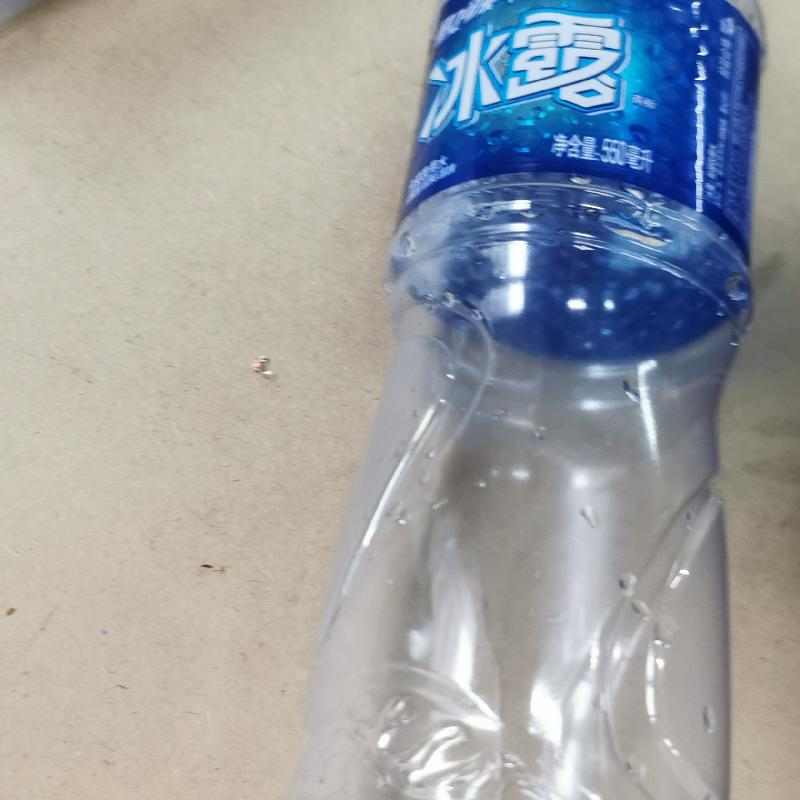bottles: (287, 0, 770, 799)
